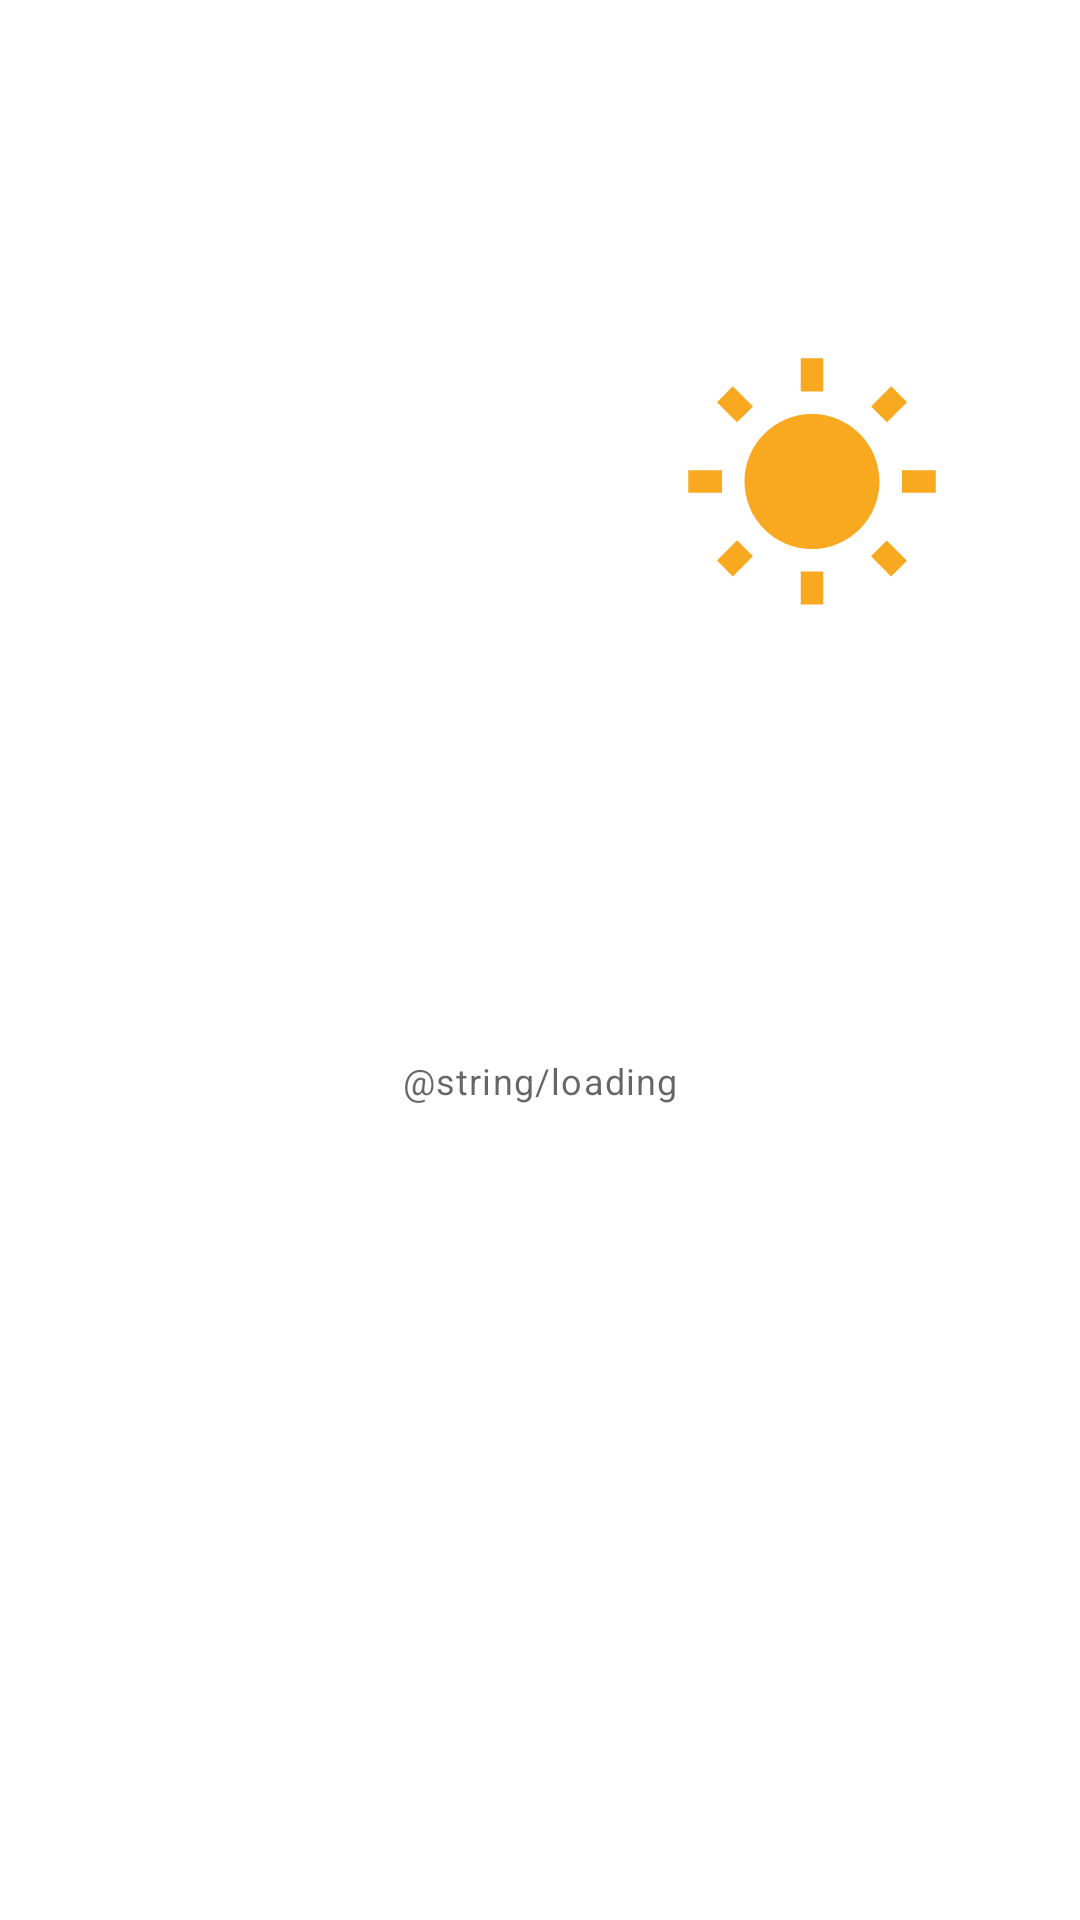

Icons on this 1080 x 1920 Android screen, each with the point to tap as [x,y]:
sunny: [812,481]
